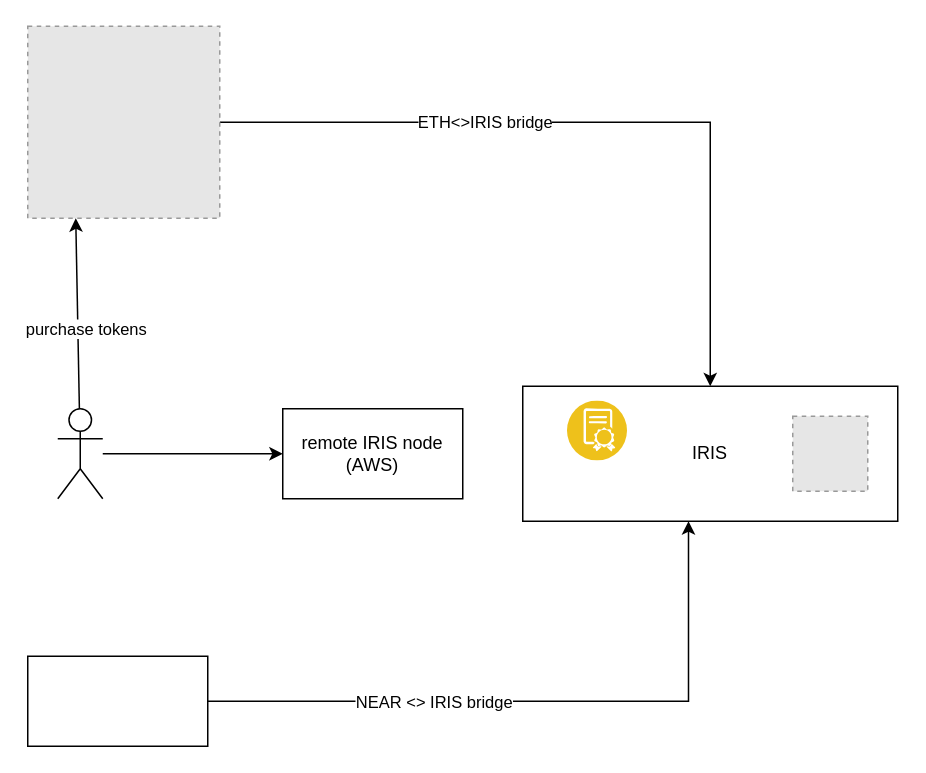
Image size: 926x773. Some labels were removed from this diagram. Grey dashed boxes stand in for pictures. Here are the shapes that lost their labels. From the top down, the box of each, then its label:
(567, 400, 627, 460): WASM or EVM
(26, 655, 208, 746): NEAR
